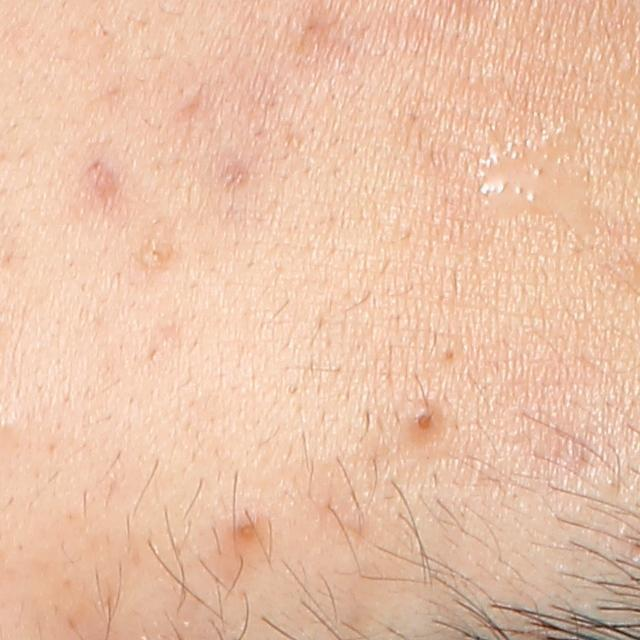atrophic_scar: (176, 77, 206, 123)
comedo: (214, 510, 264, 546), (143, 233, 179, 273), (406, 405, 442, 443), (435, 336, 463, 364)
